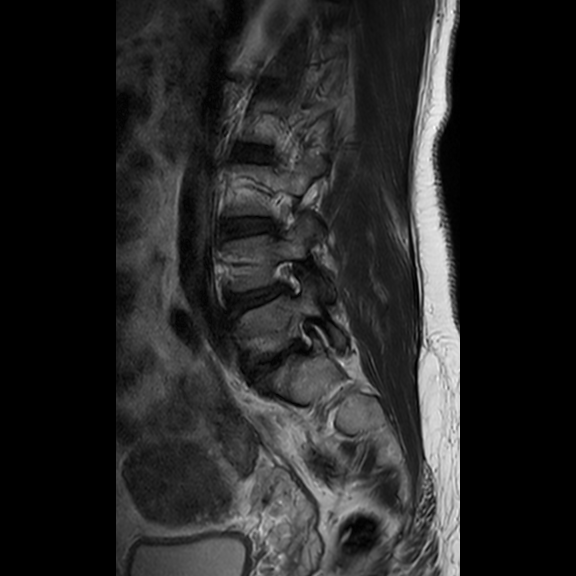RFS0: (264, 250, 313, 308)
